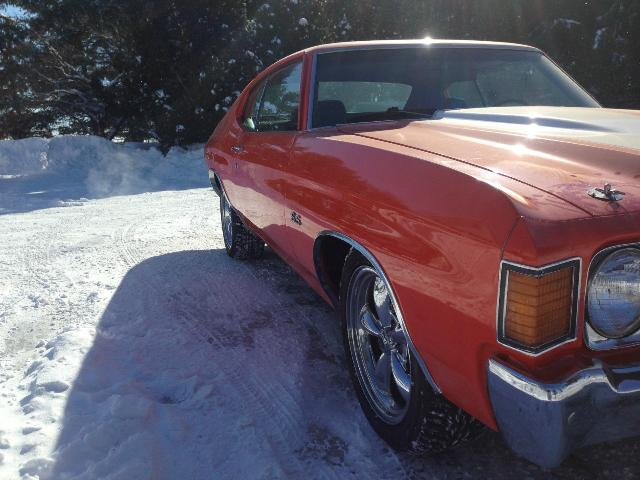chevelle-1972: (204, 40, 639, 466)
